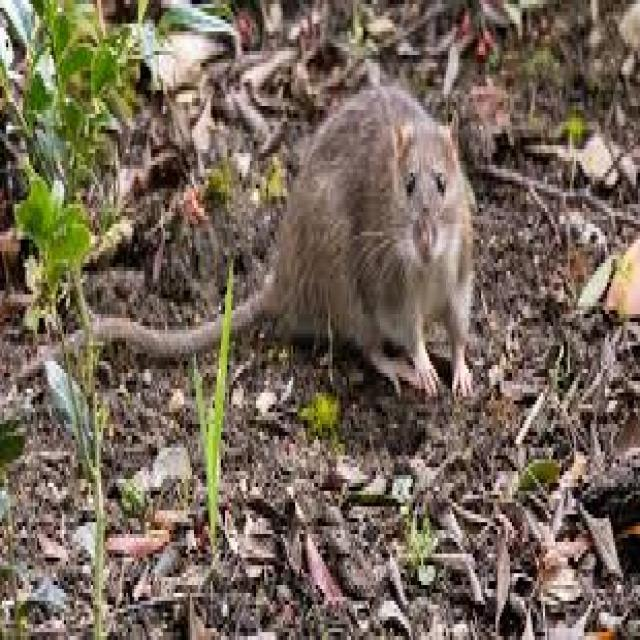Rat: (128, 64, 544, 402)
